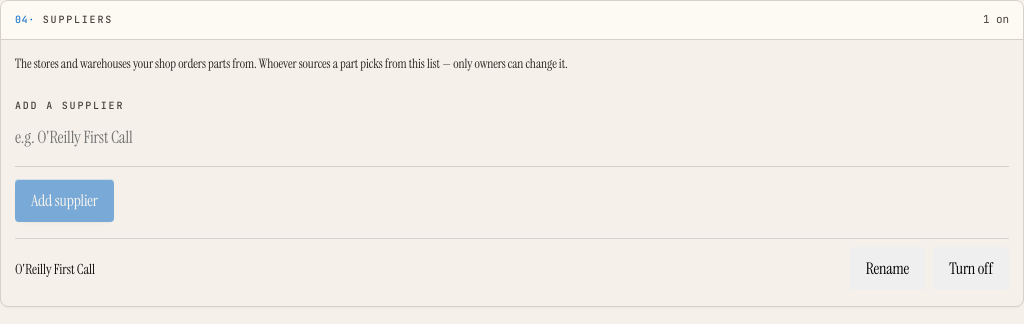
Test: SuppliersSection › reports a same-window conflict plainly and leaves the row unchanged
Click the button "Turn off" at (971, 269), box [933,247,1009,290]
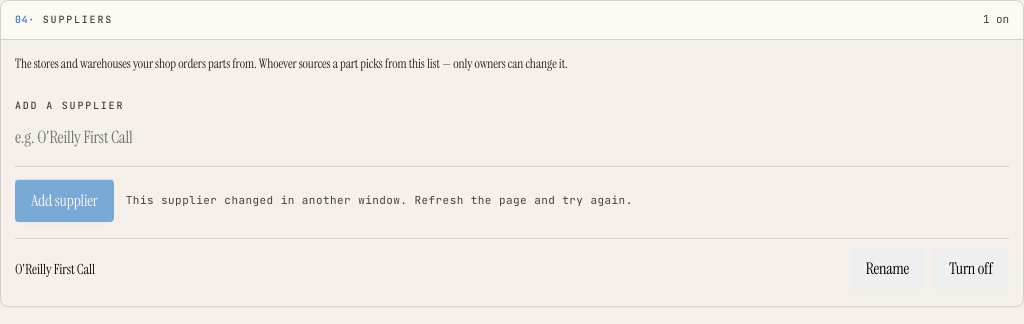
expect the text "1 on" is shown: met, box [983,12,1009,28]
expect the text "This supplier changed in another window. Refresh the page and try again." is shown: met, box [126,193,633,208]
